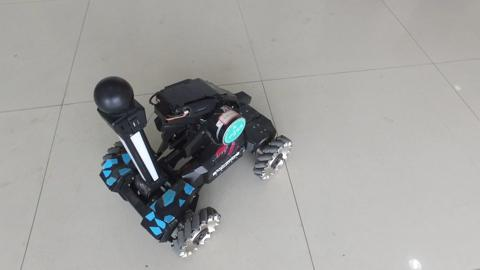chariot: (84, 58, 278, 238)
